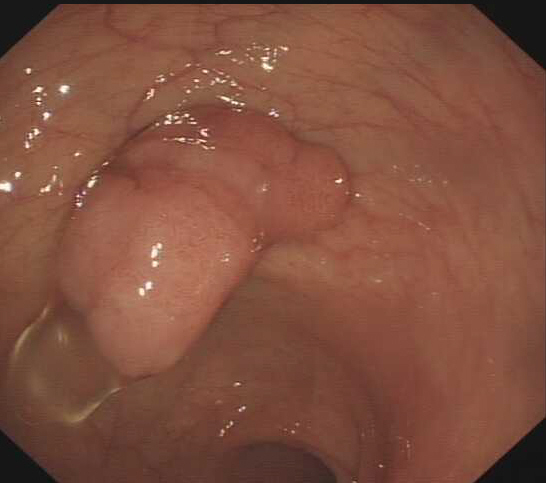adenoma: (51, 98, 355, 381)
